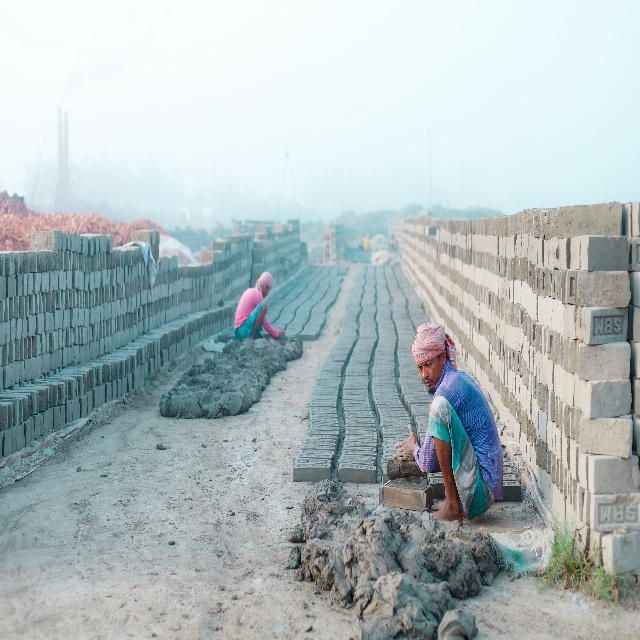Sin_guantes: (392, 424, 418, 461), (278, 329, 286, 338)
